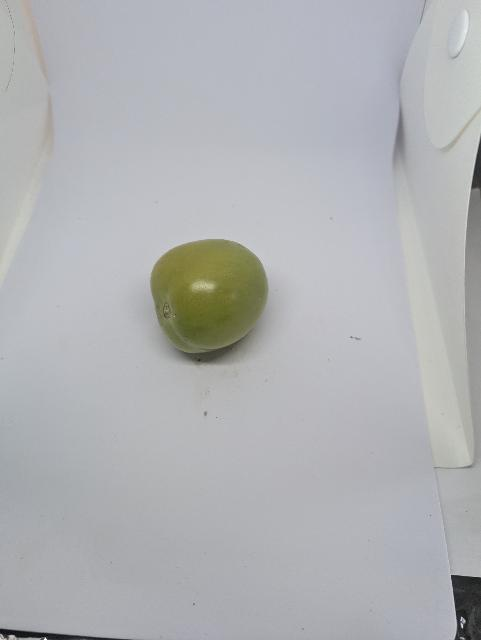green: (137, 231, 275, 361)
